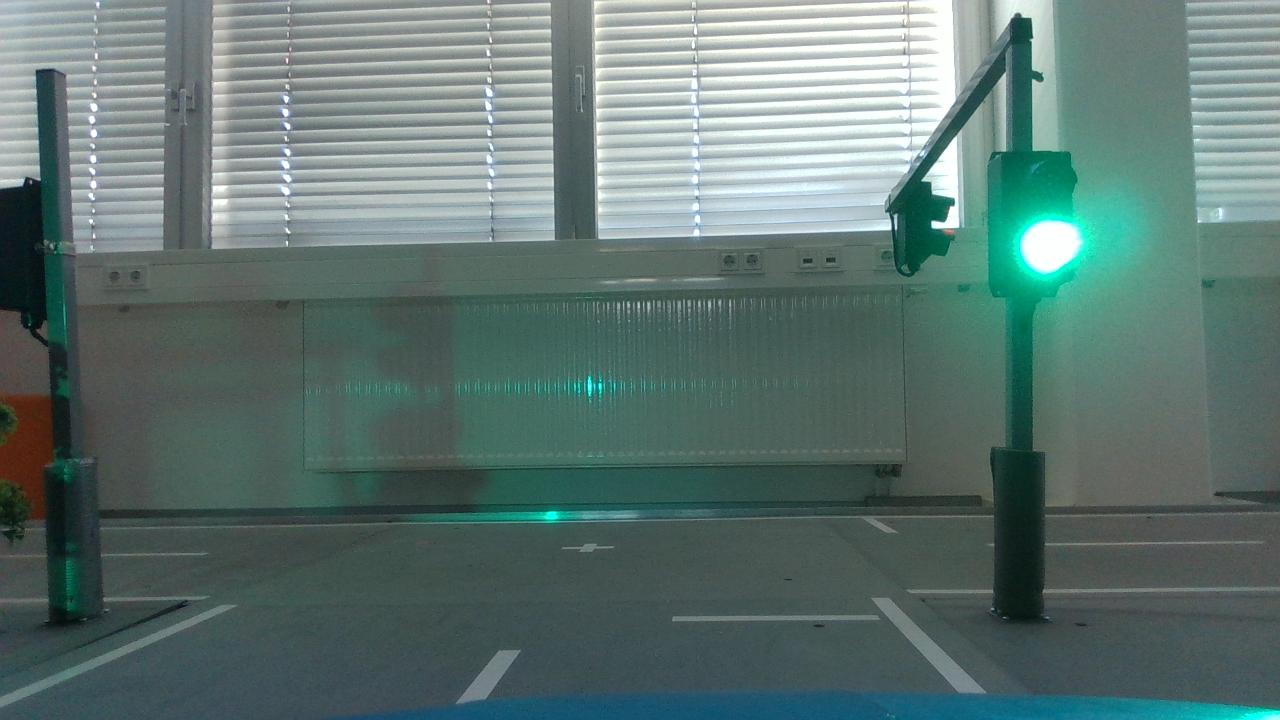traffic_light_green: (962, 134, 1107, 319)
